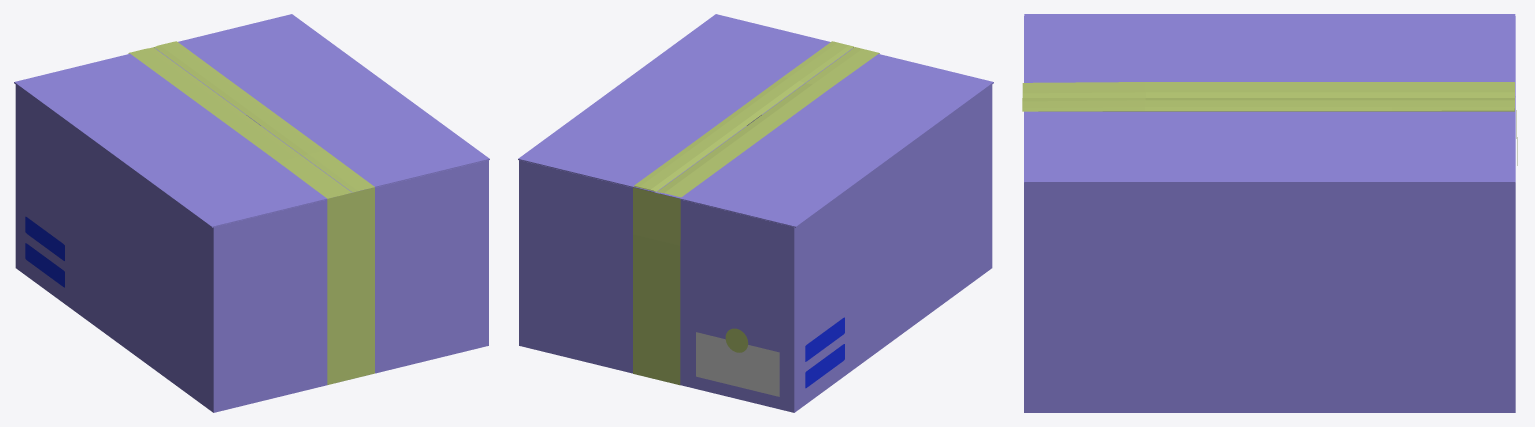
File: BoxСolor.glb
3 views of the same model, side by side, from view 1: azimuth 30°, elevation 25°; view 2: azimuth 150°, elevation 25°; view 3: azimuth 270°, elevation 25° (orthographic). The views are drawn at different scales.
Parts seen in each view (by area): view 1: Box_Body, Box_Flap_RL, Box_Flap_LL, Plane.003, Plane.002; view 2: Box_Body, Box_Flap_RL, Box_Flap_LL, Plane.001, Plane.003, Plane.002, Circle; view 3: Box_Body, Box_Flap_LL, Box_Flap_RL.
Part boxes in pixels (x1,y1,x2,y2): Box_Body: [15, 47, 488, 412]; Box_Flap_RL: [14, 47, 351, 227]; Box_Flap_LL: [154, 14, 489, 192]; Plane.003: [25, 216, 64, 260]; Plane.002: [25, 243, 64, 287]; Box_Body: [519, 47, 992, 412]; Box_Flap_RL: [657, 47, 993, 227]; Box_Flap_LL: [518, 14, 853, 192]; Plane.001: [696, 332, 779, 396]; Plane.003: [805, 317, 844, 361]; Plane.002: [805, 344, 844, 388]; Circle: [725, 328, 748, 352]; Box_Body: [1024, 16, 1517, 412]; Box_Flap_LL: [1022, 98, 1515, 183]; Box_Flap_RL: [1022, 14, 1515, 97].
Bounding box in the file's own units: 2.33 × 1.51 × 2.92.
4 materials, 1 textured.
